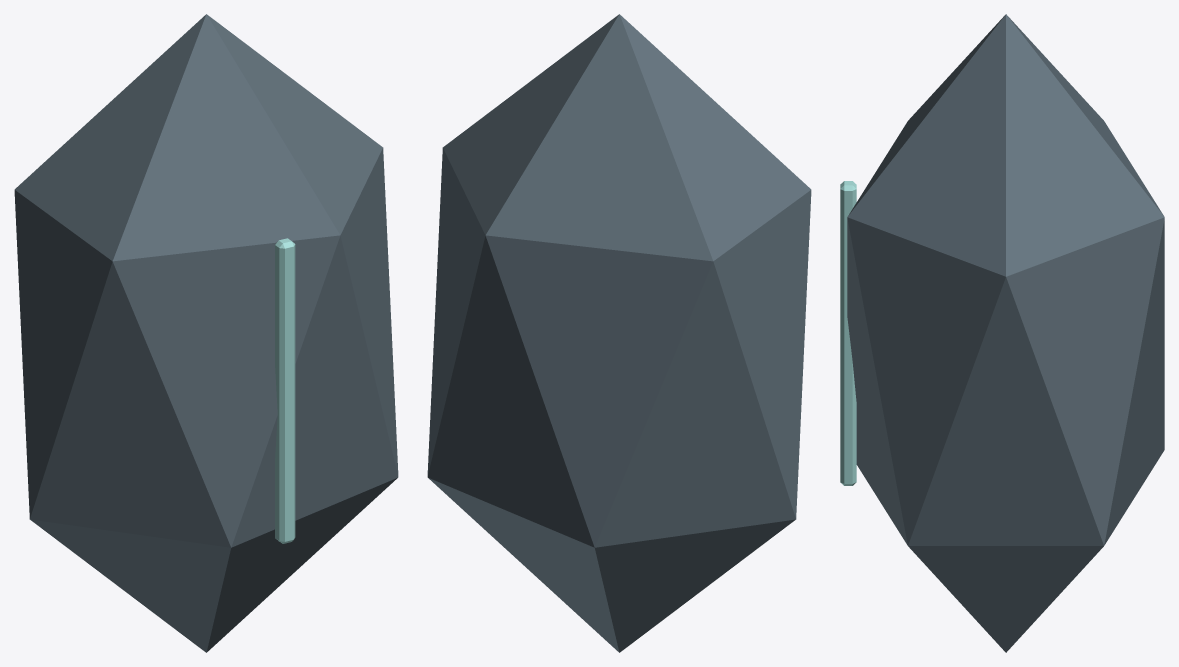
Rendered from SM_ENV_Rock_03_MemorySplit.glb.
3 renders of one model, left to right at view 1: azimuth 30°, elevation 25°; view 2: azimuth 150°, elevation 25°; view 3: azimuth 270°, elevation 25°, orthographic.
Parts seen in each view (by area): view 1: SM_ENV_Rock_03_MemorySplit; view 2: SM_ENV_Rock_03_MemorySplit; view 3: SM_ENV_Rock_03_MemorySplit.
Boxes of the visible parts, x1,y1,x2,y2 form: SM_ENV_Rock_03_MemorySplit: (14,14,398,652); SM_ENV_Rock_03_MemorySplit: (427,14,811,652); SM_ENV_Rock_03_MemorySplit: (840,14,1164,652).
Size of the model in its own units: 0.9839 by 1.7 by 0.7828.
